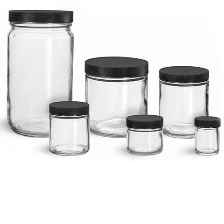bottle: (3, 3, 75, 142), (80, 50, 155, 141), (156, 64, 213, 141), (46, 97, 93, 156), (120, 109, 165, 155), (189, 112, 224, 159)
